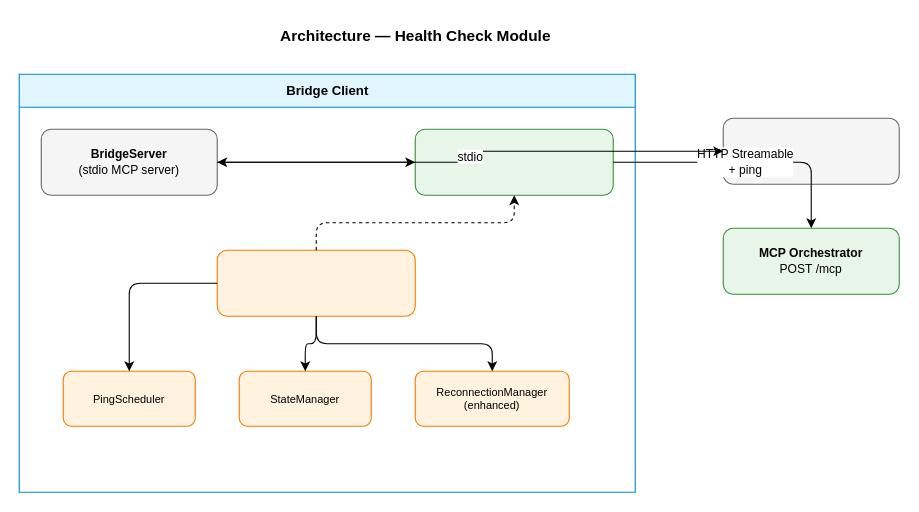
This 919x512 diagram has some shape labels left out. Here are the shapes that lost their labels. From the top down, the centre of each, then its label:
(513,161): HttpStreamableClient (HTTP connection)
(810,150): IDE (Kiro/Cursor)
(315,282): HealthCheckManager (NEW)
